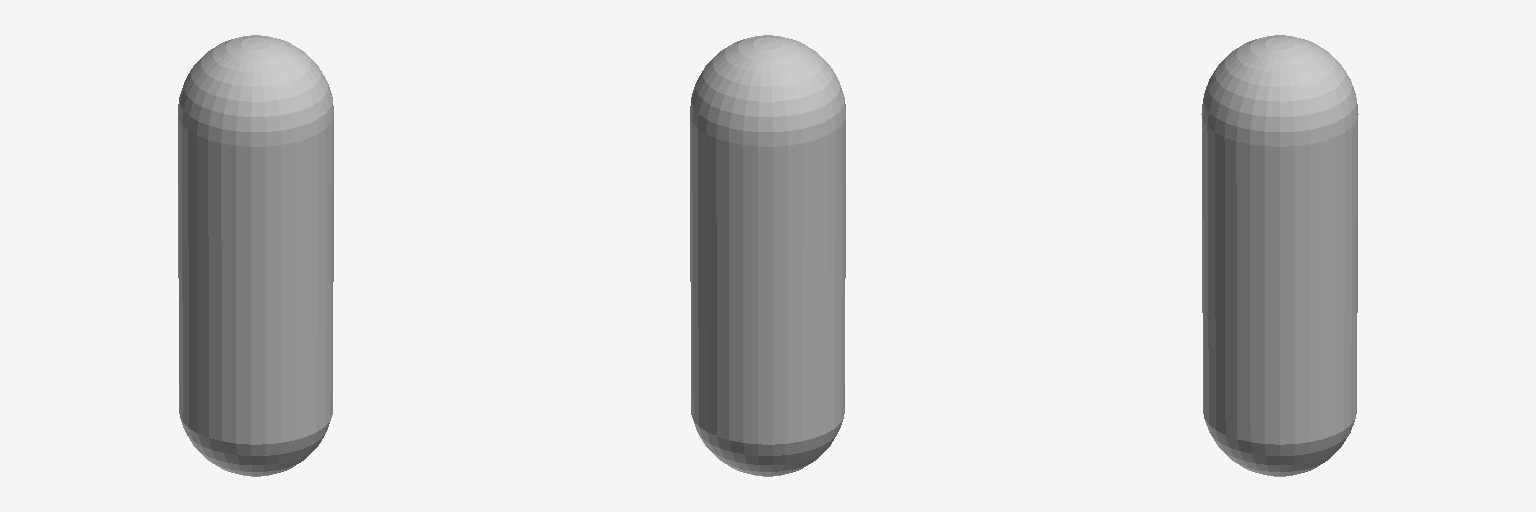
The model's file is DefaultCapsule.obj.
The picture shows the model from 3 angles: view 1: azimuth 30°, elevation 25°; view 2: azimuth 150°, elevation 25°; view 3: azimuth 270°, elevation 25°; orthographic projection.
Parts seen in each view (by area): view 1: Sphere; view 2: Sphere; view 3: Sphere.
Boxes of the visible parts, box(x1,y1,x2,y2) form: Sphere: box(178, 35, 333, 476); Sphere: box(690, 35, 845, 476); Sphere: box(1201, 35, 1358, 476).
Size of the model in its own units: 2 by 6 by 2.